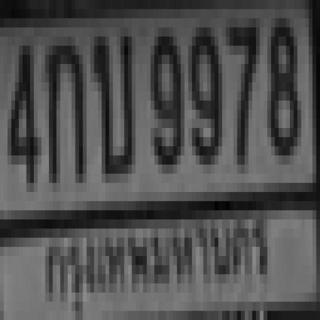A01: (41, 37, 87, 183)
A26: (87, 18, 139, 174)
N04: (8, 37, 38, 174)
N07: (226, 18, 260, 155)
N08: (263, 18, 301, 155)
N09: (188, 27, 222, 165), (151, 46, 181, 155)
P04: (30, 206, 280, 320)
